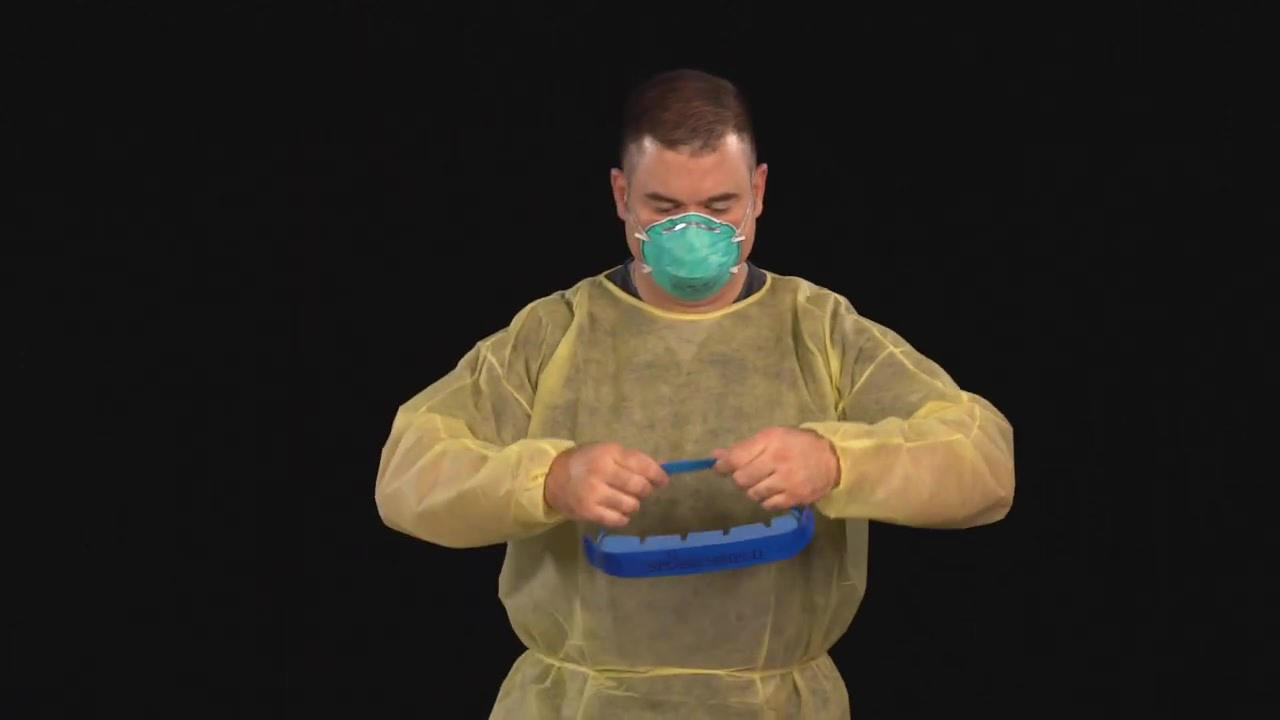Coverall: (379, 266, 981, 720)
Face_Shield: (581, 490, 829, 677)
with_mask: (633, 200, 746, 301)
